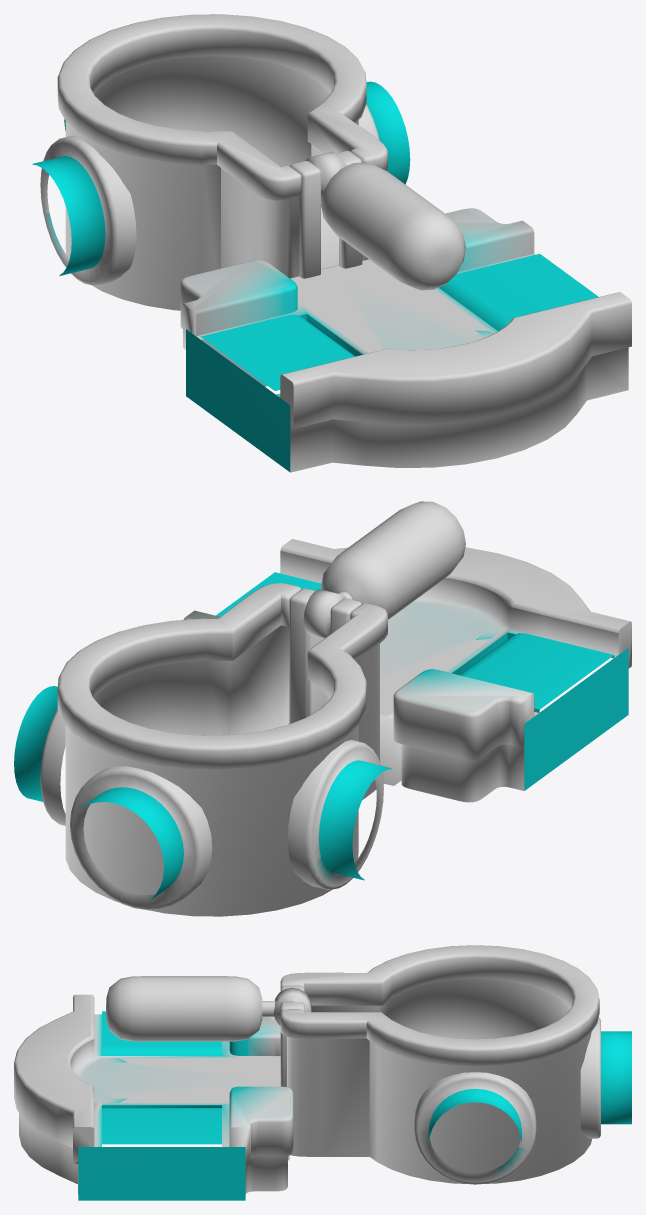
The model's file is PainterDefaultInternalVariant.gltf.
The picture shows the model from 3 angles, top to bottom: view 1: azimuth 30°, elevation 25°; view 2: azimuth 150°, elevation 25°; view 3: azimuth 270°, elevation 25°; orthographic projection. The views are drawn at different scales.
Visible parts, largest first — view 1: Painter_Default_Main_LOD0, Painter_Default_Roll_LOD0, Painter_Default_Hinge_LOD0; view 2: Painter_Default_Main_LOD0, Painter_Default_Roll_LOD0, Painter_Default_Hinge_LOD0; view 3: Painter_Default_Main_LOD0, Painter_Default_Roll_LOD0, Painter_Default_Hinge_LOD0.
Boxes of the visible parts, bbox=[...] form: Painter_Default_Main_LOD0: bbox=[32, 14, 631, 472]; Painter_Default_Roll_LOD0: bbox=[321, 162, 465, 290]; Painter_Default_Hinge_LOD0: bbox=[306, 151, 345, 269]; Painter_Default_Main_LOD0: bbox=[14, 539, 631, 916]; Painter_Default_Roll_LOD0: bbox=[321, 501, 465, 619]; Painter_Default_Hinge_LOD0: bbox=[303, 589, 345, 714]; Painter_Default_Main_LOD0: bbox=[14, 945, 631, 1200]; Painter_Default_Roll_LOD0: bbox=[106, 976, 275, 1041]; Painter_Default_Hinge_LOD0: bbox=[273, 987, 311, 1025].
Bounding box in the file's own units: 1 × 0.5695 × 1.97.
